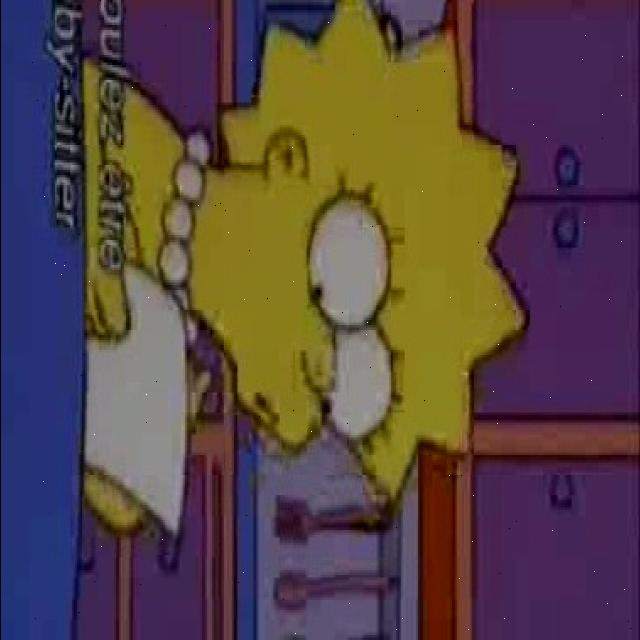Lisa Simpson: (157, 21, 532, 509)
